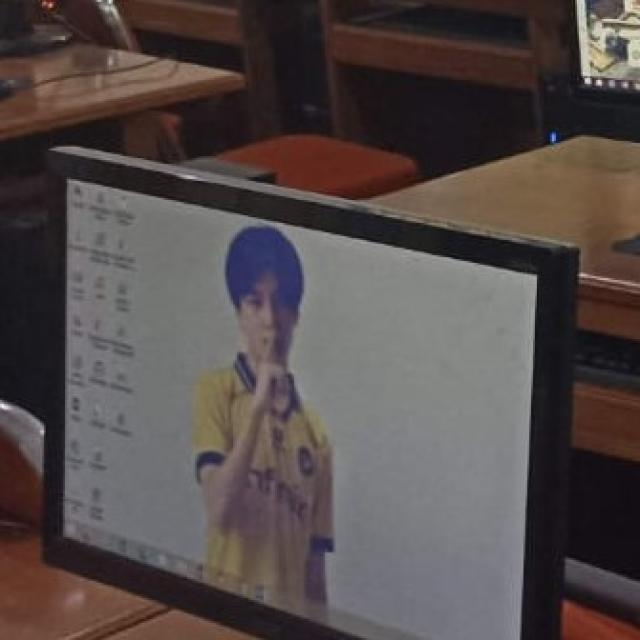onscreen: (48, 150, 575, 640)
